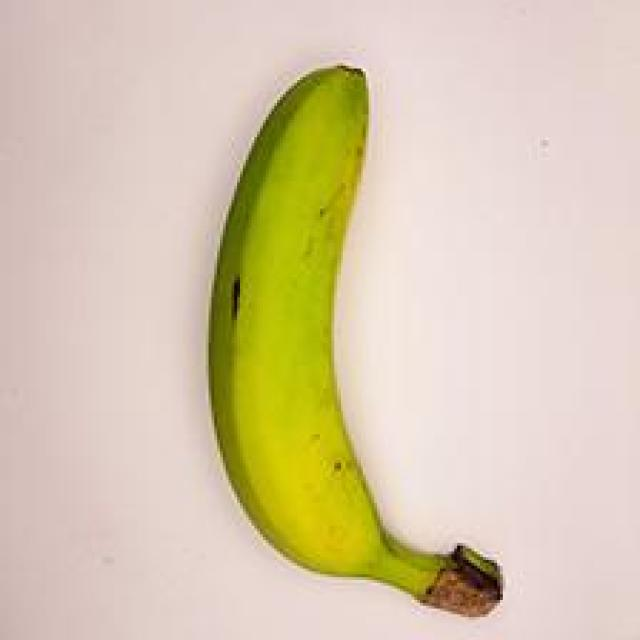unripe: (131, 46, 571, 623)
